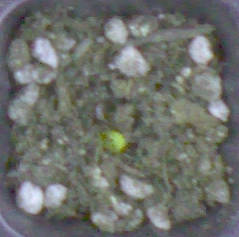pepper seed: (36, 52, 162, 205)
